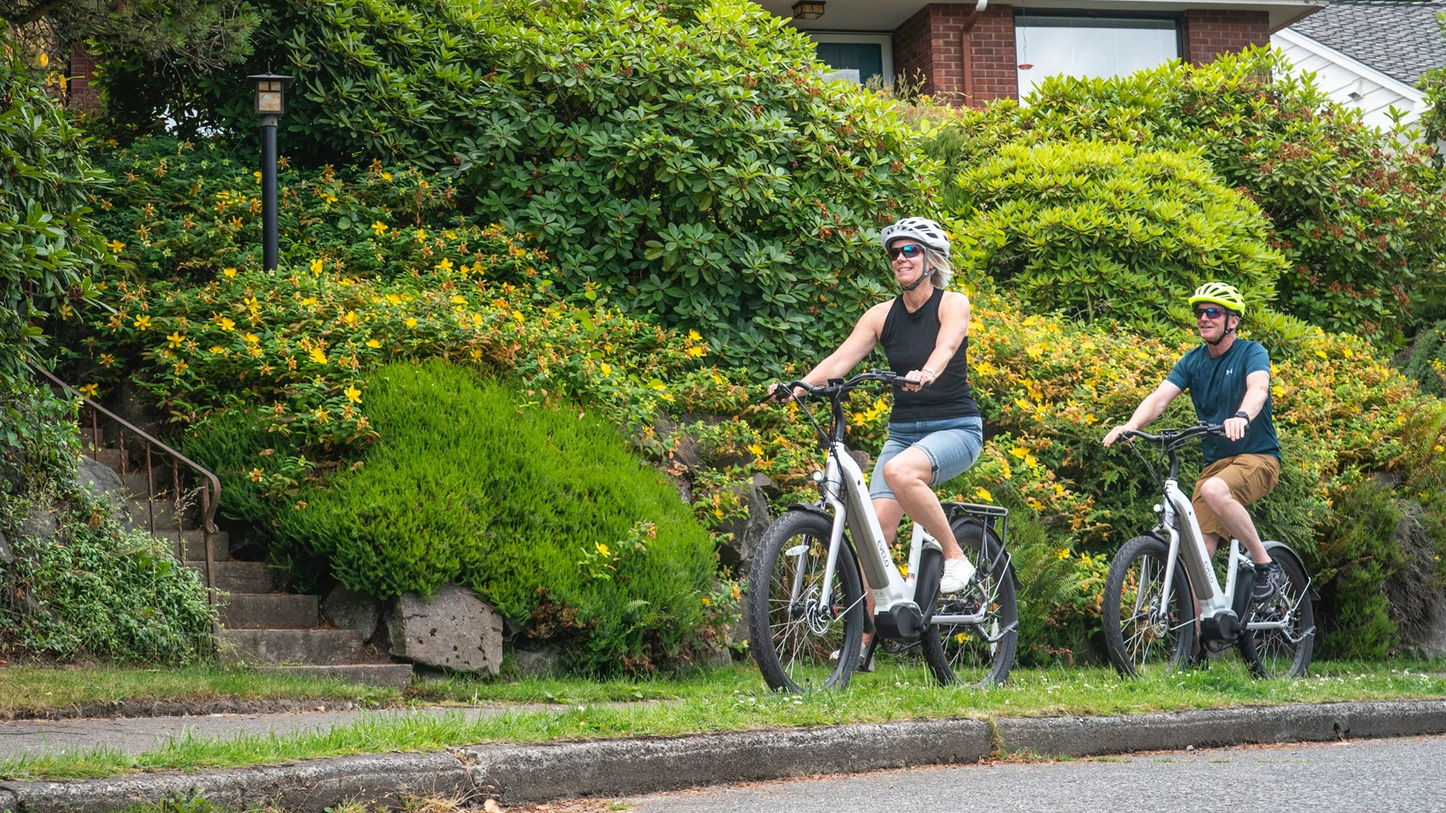Bicycle: (745, 416, 1052, 702), (1089, 464, 1345, 694)
Lamp: (232, 60, 294, 268)
Person: (804, 204, 1005, 594), (1112, 280, 1300, 581)
